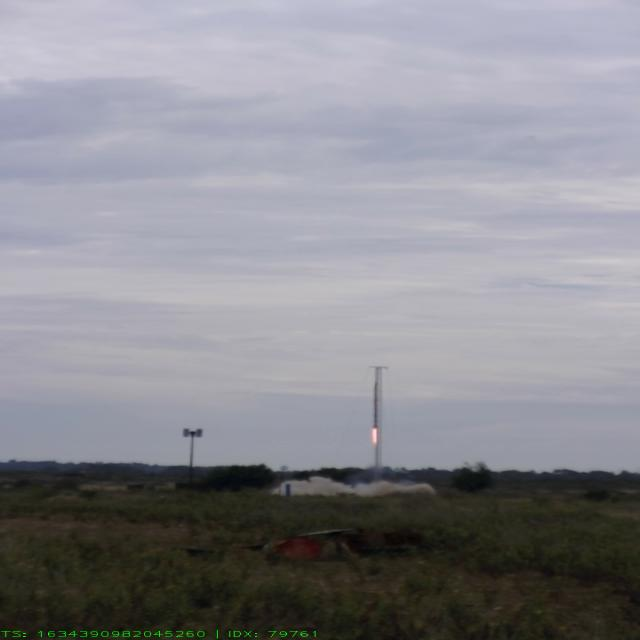Rocket: (373, 382, 379, 428)
